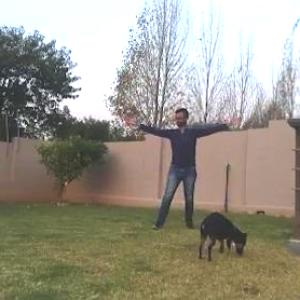takeoff: (132, 103, 253, 240)
